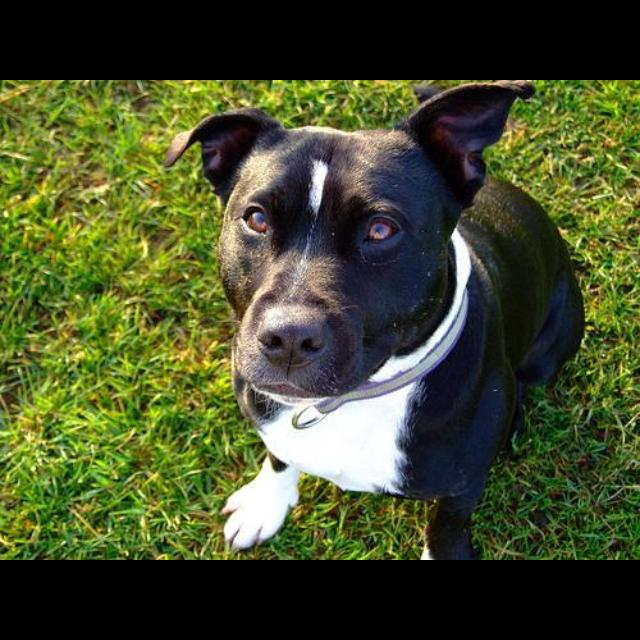amstaff: (163, 81, 586, 559)
